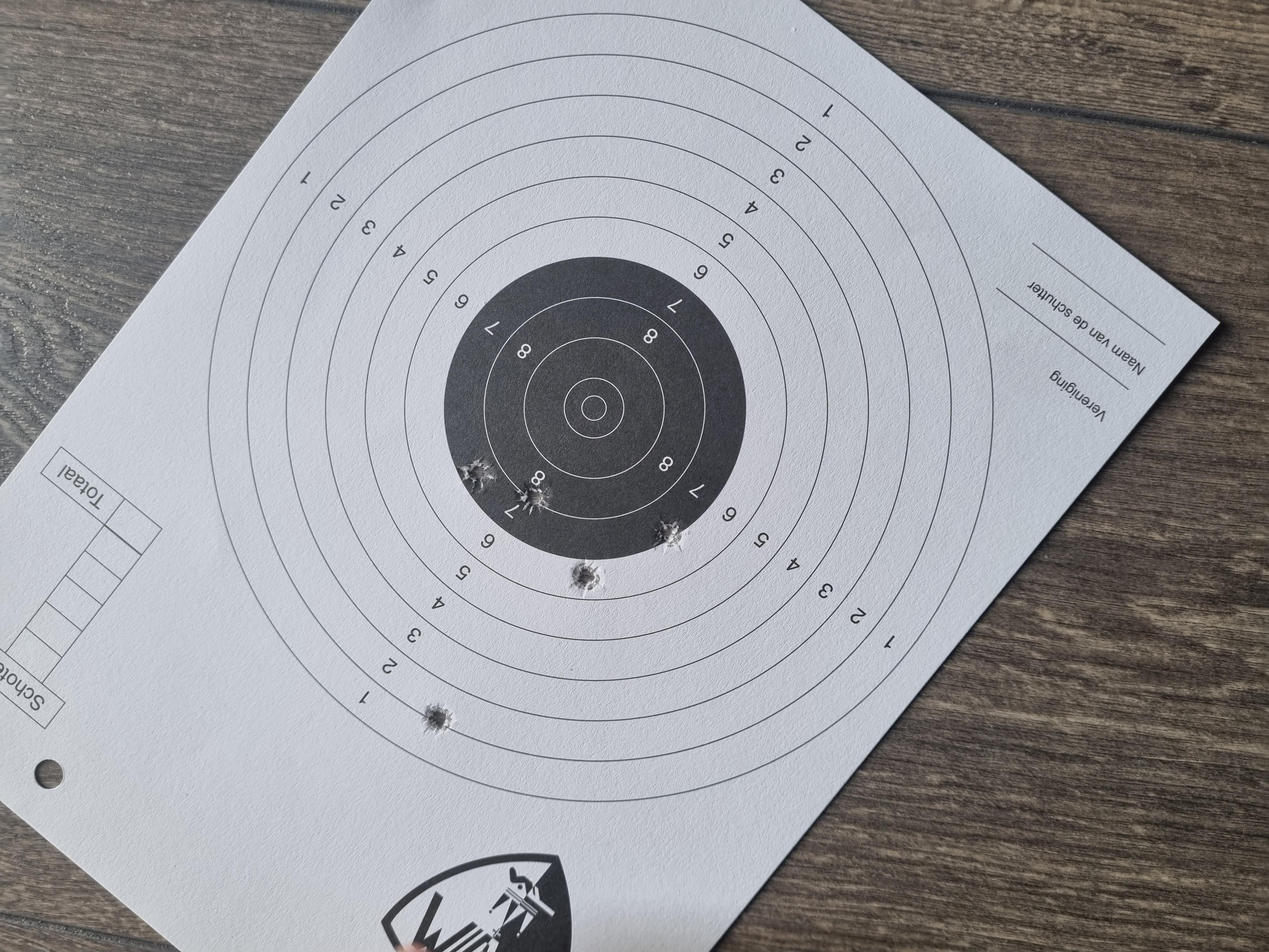hole: (612, 343, 661, 371), (583, 386, 629, 413), (532, 490, 582, 513), (289, 316, 330, 340), (481, 427, 521, 450)
